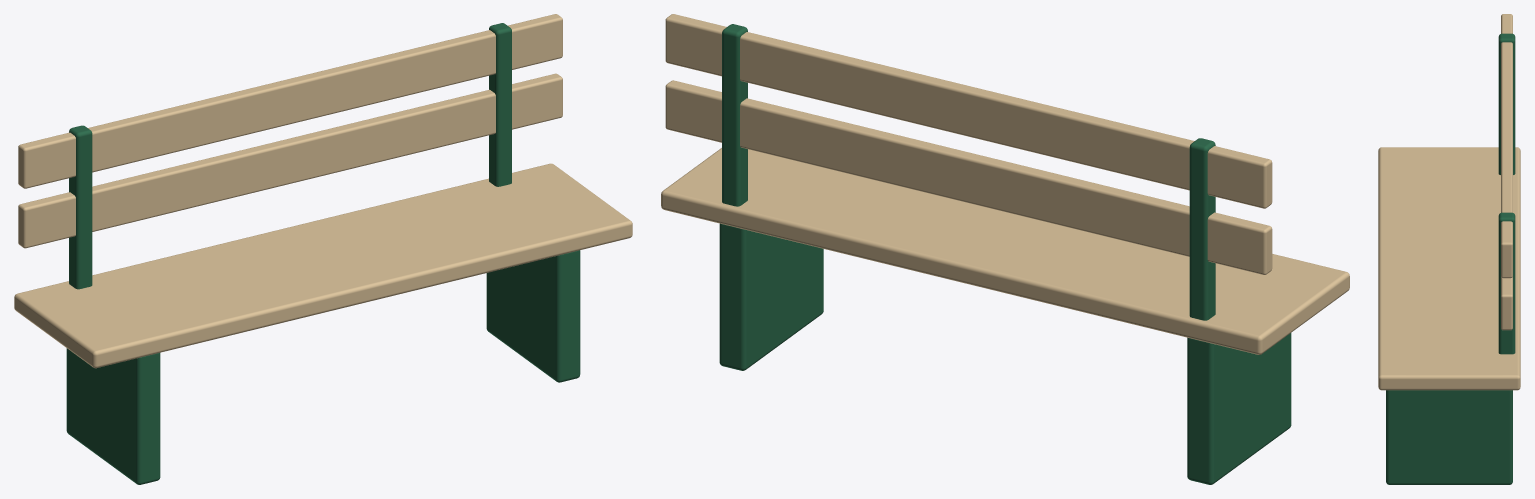
File: cricket-ground-and-pavilion-players-viewing-bench-7b2d56da__31356.glb
3 views of the same model, side by side, from view 1: azimuth 30°, elevation 25°; view 2: azimuth 150°, elevation 25°; view 3: azimuth 270°, elevation 25° (orthographic). The views are drawn at different scales.
Visible parts, largest first — view 1: players-viewing-bench; view 2: players-viewing-bench; view 3: players-viewing-bench.
Part boxes in pixels (x1=…): players-viewing-bench: x1=14, y1=14, x2=632, y2=484; players-viewing-bench: x1=661, y1=14, x2=1349, y2=484; players-viewing-bench: x1=1378, y1=14, x2=1520, y2=484.
Size of the model in its own units: 1.8 by 0.9699 by 0.4701.
